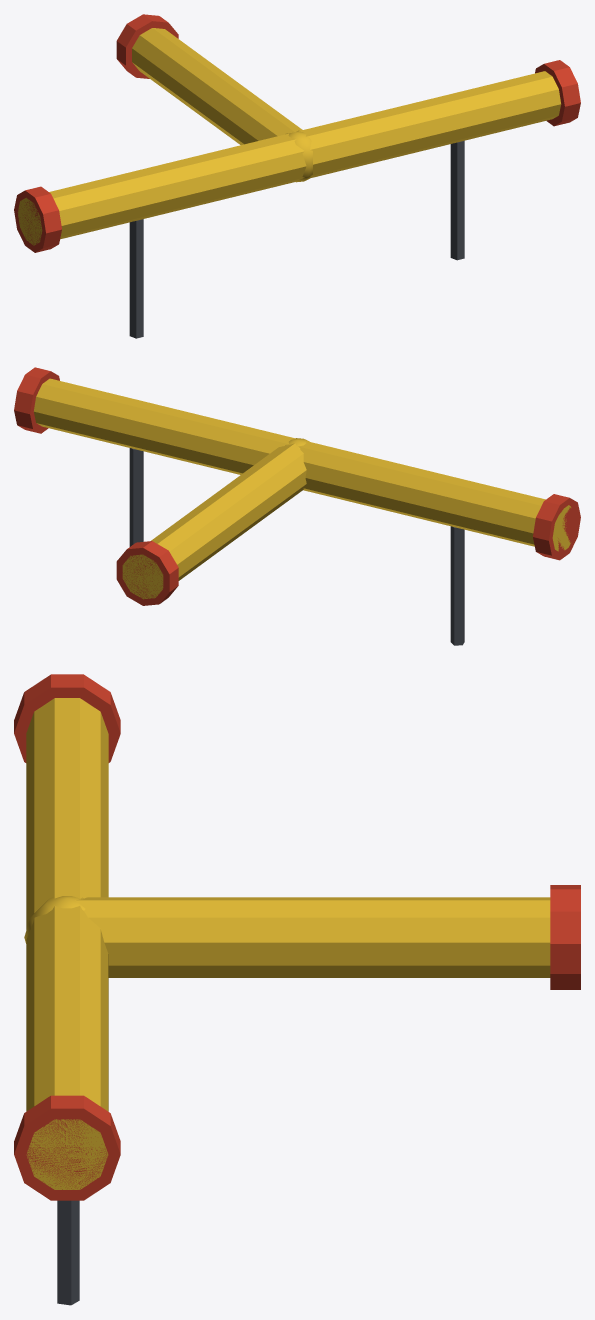
The model's file is PipeG_Tee.fbx.
The picture shows the model from 3 angles, top to bottom: view 1: azimuth 30°, elevation 25°; view 2: azimuth 150°, elevation 25°; view 3: azimuth 270°, elevation 25°; orthographic projection. The views are drawn at different scales.
Parts seen in each view (by area): view 1: PipeG_Tee_Body; view 2: PipeG_Tee_Body; view 3: PipeG_Tee_Body.
Boxes of the visible parts, x1,y1,x2,y2 form: PipeG_Tee_Body: (14,14,580,338); PipeG_Tee_Body: (14,367,580,645); PipeG_Tee_Body: (14,674,580,1305).
Bounding box in the file's own units: 1 × 0.302 × 0.552.
